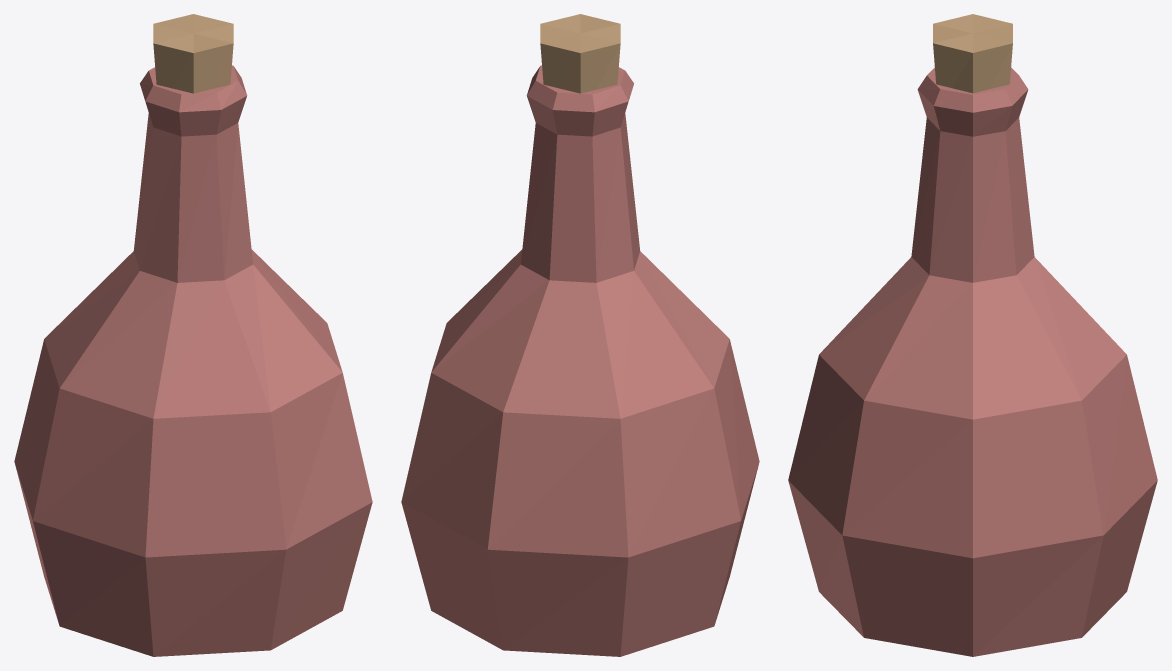
File: bottle_red.glb
3 views of the same model, side by side, from view 1: azimuth 30°, elevation 25°; view 2: azimuth 150°, elevation 25°; view 3: azimuth 270°, elevation 25° (orthographic).
Parts seen in each view (by area): view 1: bottle_red; view 2: bottle_red; view 3: bottle_red.
Boxes of the visible parts, box(x1,y1,x2,y2) form: bottle_red: box(14, 14, 372, 656); bottle_red: box(401, 14, 759, 656); bottle_red: box(788, 14, 1157, 656).
Size of the model in its own units: 0.24 by 0.4 by 0.24.
